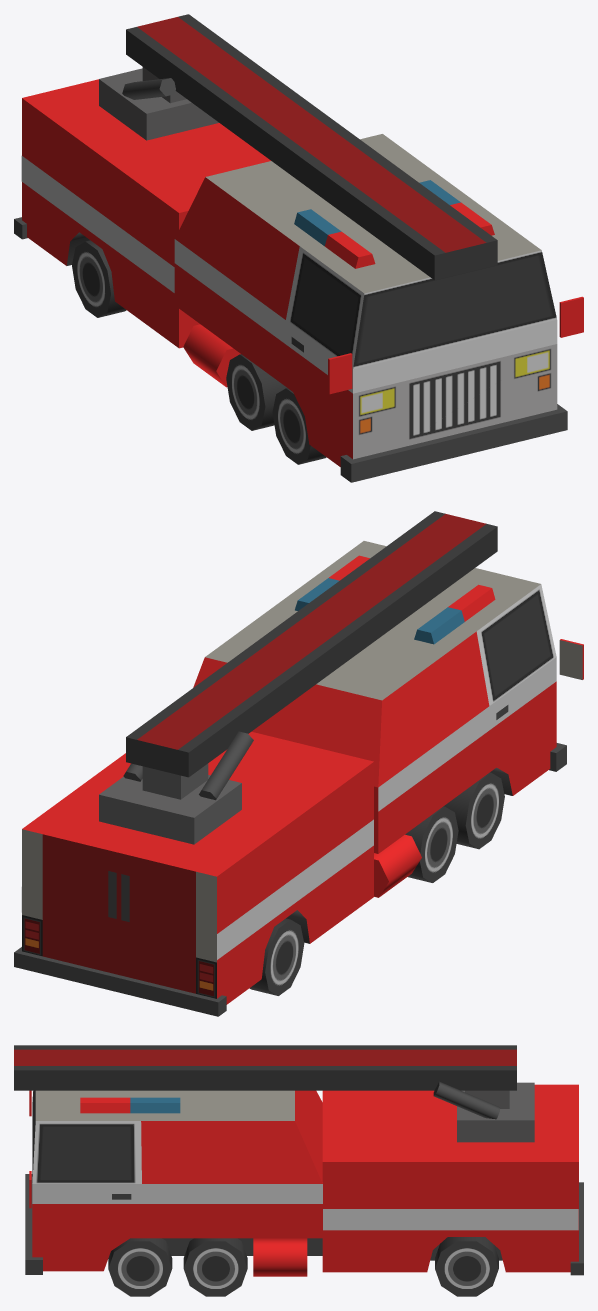
Rendered from car 16 single.FBX.
3 renders of one model, top to bottom at view 1: azimuth 30°, elevation 25°; view 2: azimuth 150°, elevation 25°; view 3: azimuth 270°, elevation 25°, orthographic. The views are drawn at different scales.
Visible parts, largest first — view 1: Box341; view 2: Box341; view 3: Box341.
Part boxes in pixels (x1,y1,x2,y2): Box341: (14, 14, 583, 482); Box341: (14, 511, 583, 1016); Box341: (14, 1045, 583, 1296).
Bounding box in the file's own units: 0.1018 × 0.2426 × 0.094.
1 material, 1 textured.
